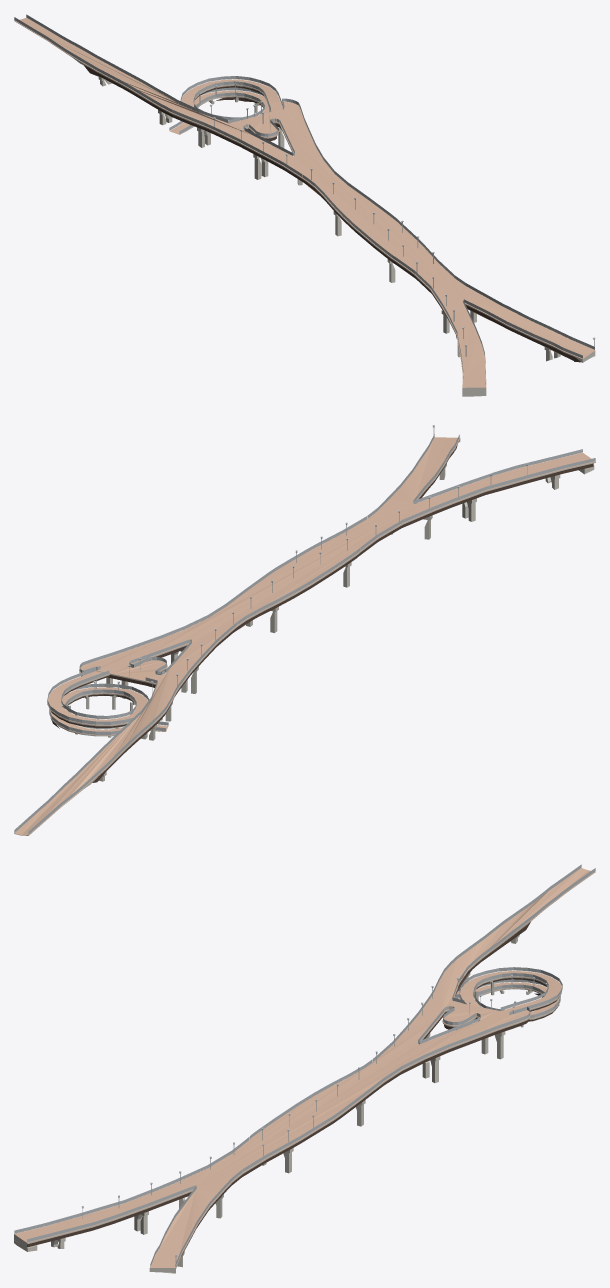
File: atx-pfluger-pedestrian-bridge.glb
The picture shows the model from 3 angles, top to bottom: view 1: azimuth 30°, elevation 25°; view 2: azimuth 150°, elevation 25°; view 3: azimuth 330°, elevation 25°; orthographic projection. The views are drawn at different scales.
Parts seen in each view (by area): view 1: James D. Pfluger Pedestrian Bridge; view 2: James D. Pfluger Pedestrian Bridge; view 3: James D. Pfluger Pedestrian Bridge.
Boxes of the visible parts, x1=… form: James D. Pfluger Pedestrian Bridge: x1=14, y1=14, x2=595, y2=396; James D. Pfluger Pedestrian Bridge: x1=14, y1=425, x2=595, y2=835; James D. Pfluger Pedestrian Bridge: x1=14, y1=864, x2=595, y2=1273.
Bounding box in the file's own units: 53.86 × 13.67 × 288.
